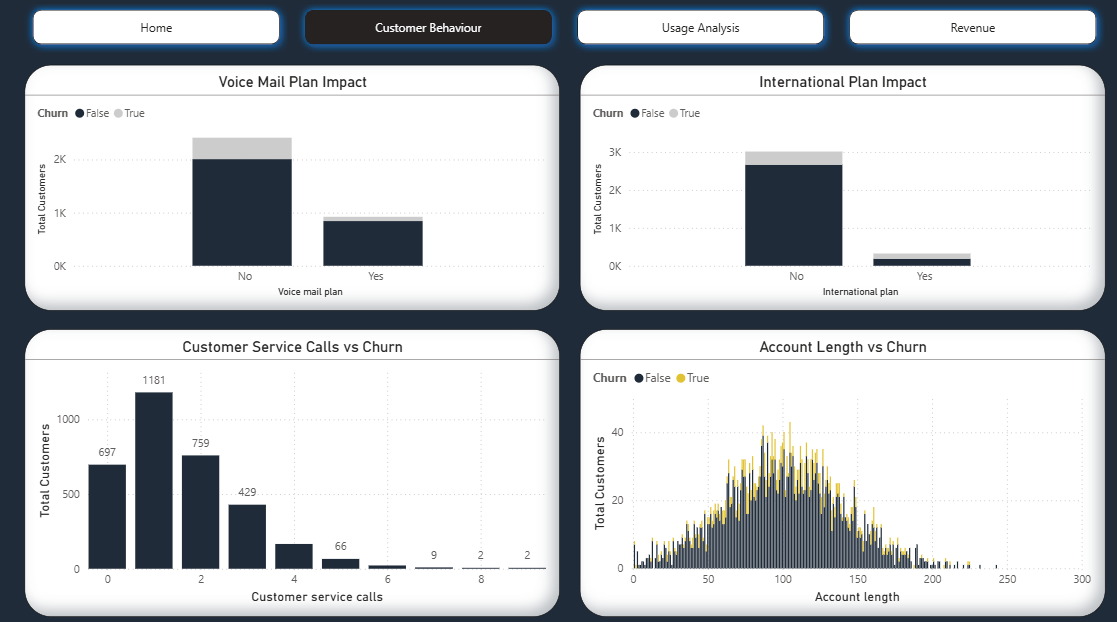

What the dashboard file says about the page in this screenshot:
{"tool":"powerbi","page":{"name":"Customer Behaviour","canvas":[1280,720],"ordinal":1},"visuals":[{"type":"clusteredColumnChart","title":"Customer Service Calls vs Churn","fields":{"Category":["Churn Prdiction Data 2.Customer service calls"],"Y":["Churn Prdiction Data 2.Total Customers"]},"box":[41,380,599.8,322.2],"z":0},{"type":"columnChart","title":"Account Length vs Churn","fields":{"Category":["Churn Prdiction Data 2.Account length"],"Y":["Churn Prdiction Data 2.Total Customers"],"Series":["Churn Prdiction Data 2.Churn"]},"box":[663.1,380,588.6,322.2],"z":1},{"type":"columnChart","title":"International Plan Impact","fields":{"Category":["Churn Prdiction Data 2.International plan"],"Y":["Churn Prdiction Data 2.Total Customers"],"Series":["Churn Prdiction Data 2.Churn"]},"box":[663.1,83.8,588.6,275.7],"z":2},{"type":"columnChart","title":"Voice Mail Plan Impact","fields":{"Category":["Churn Prdiction Data 2.Voice mail plan"],"Y":["Churn Prdiction Data 2.Total Customers"],"Series":["Churn Prdiction Data 2.Churn"]},"box":[41,83.8,599.8,275.7],"z":3},{"type":"pageNavigator","box":[41,13,1210.7,57.7],"z":4}]}

Visuals, with their boxes in screenshot pixels (x1, y1, x2, y2), scaled from the page's 1280x720 canvas onto the 1117x622 screenshot:
"Customer Service Calls vs Churn" clusteredColumnChart: x1=36, y1=328, x2=559, y2=607
"Account Length vs Churn" columnChart: x1=579, y1=328, x2=1092, y2=607
"International Plan Impact" columnChart: x1=579, y1=72, x2=1092, y2=311
"Voice Mail Plan Impact" columnChart: x1=36, y1=72, x2=559, y2=311
pageNavigator: x1=36, y1=11, x2=1092, y2=61
